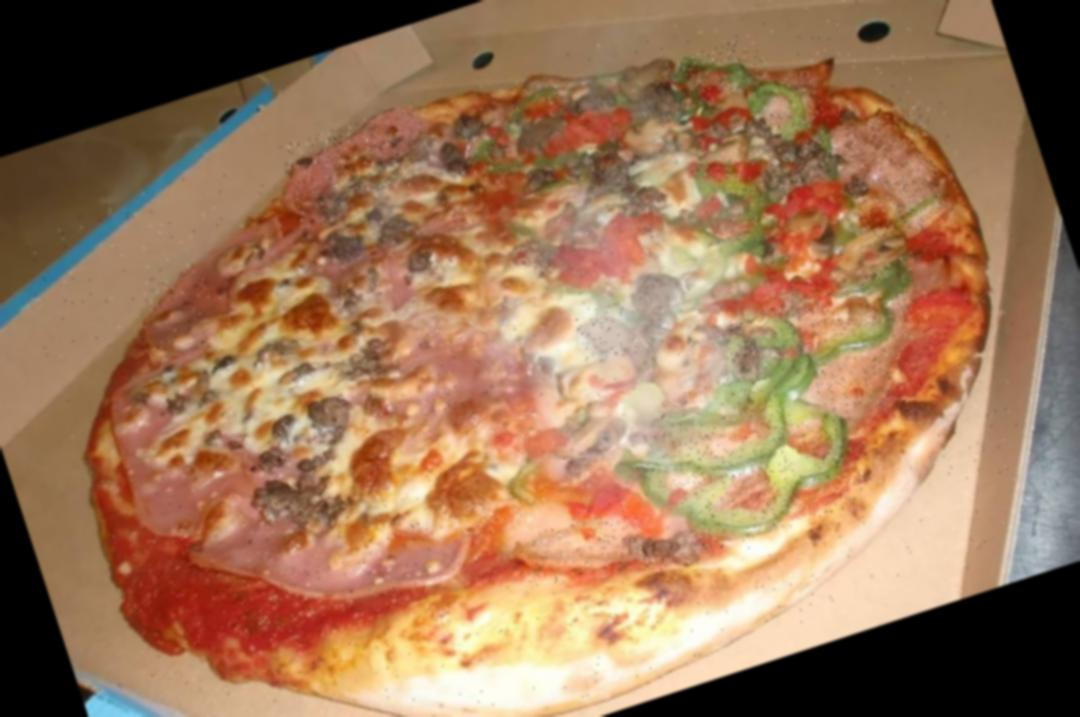Ham: (190, 448, 475, 650), (102, 351, 244, 540), (278, 103, 441, 222), (830, 99, 956, 245), (514, 505, 642, 596), (131, 260, 230, 362), (409, 325, 502, 416), (814, 344, 914, 427), (326, 243, 417, 323), (199, 213, 298, 282)
Mushroom: (547, 412, 645, 490), (572, 299, 642, 367)
Peppers: (668, 408, 873, 556), (628, 390, 800, 496), (658, 350, 833, 445), (795, 257, 933, 367), (744, 67, 845, 192), (690, 144, 780, 258), (666, 32, 773, 110), (720, 299, 813, 375), (508, 197, 583, 244), (497, 82, 566, 130), (466, 132, 522, 183)
Pizza: (7, 0, 1080, 717)
